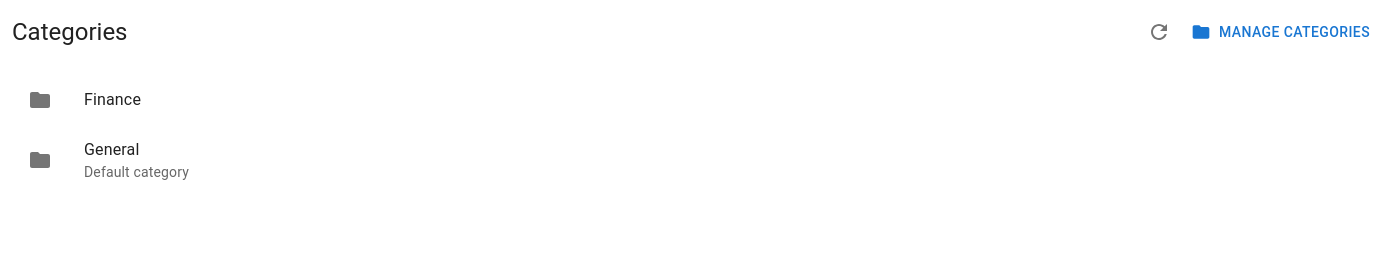
Scenario: category-first dashboard › lands on categories without loading secrets and shows a category-specific empty state
Click the button "Finance".
click(84, 100)  # box [28, 88, 141, 112]
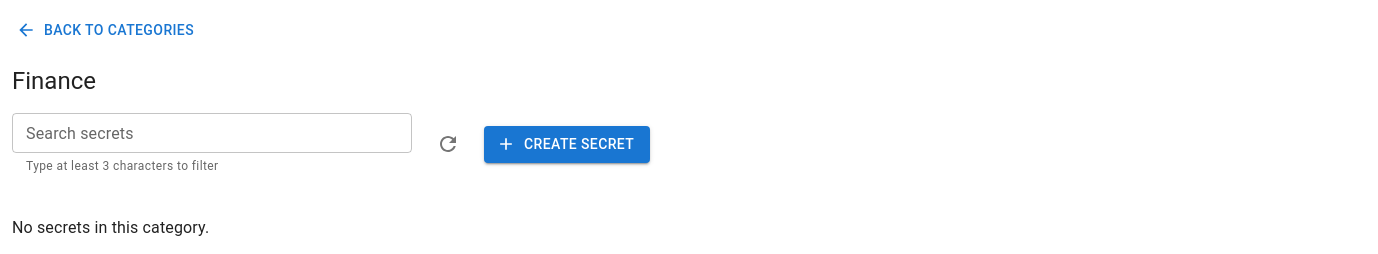
Expected: the text "No secrets in this category." is shown, [12, 218, 209, 237]
